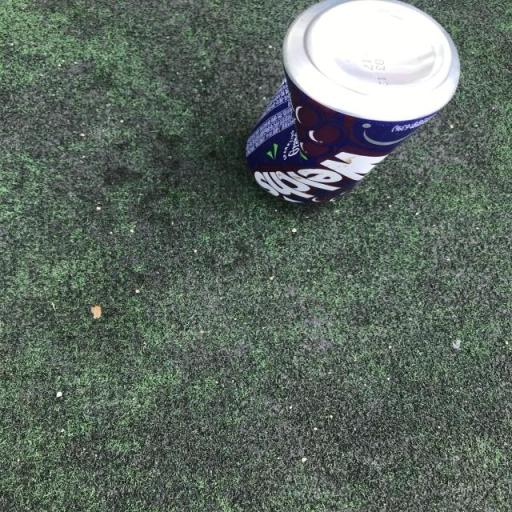metal: (238, 0, 470, 220)
